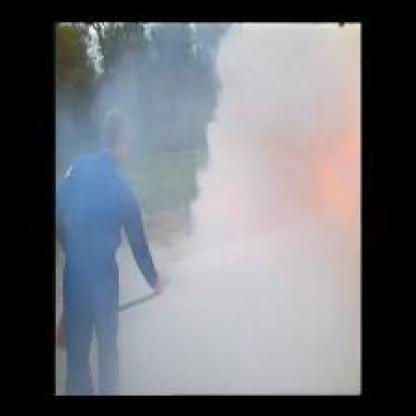smoke: (192, 26, 359, 392)
